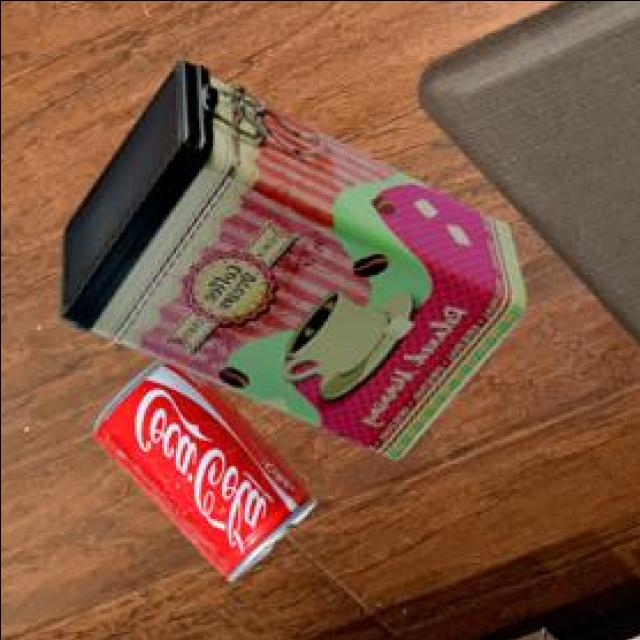logam: (56, 63, 521, 462), (91, 363, 312, 584)
